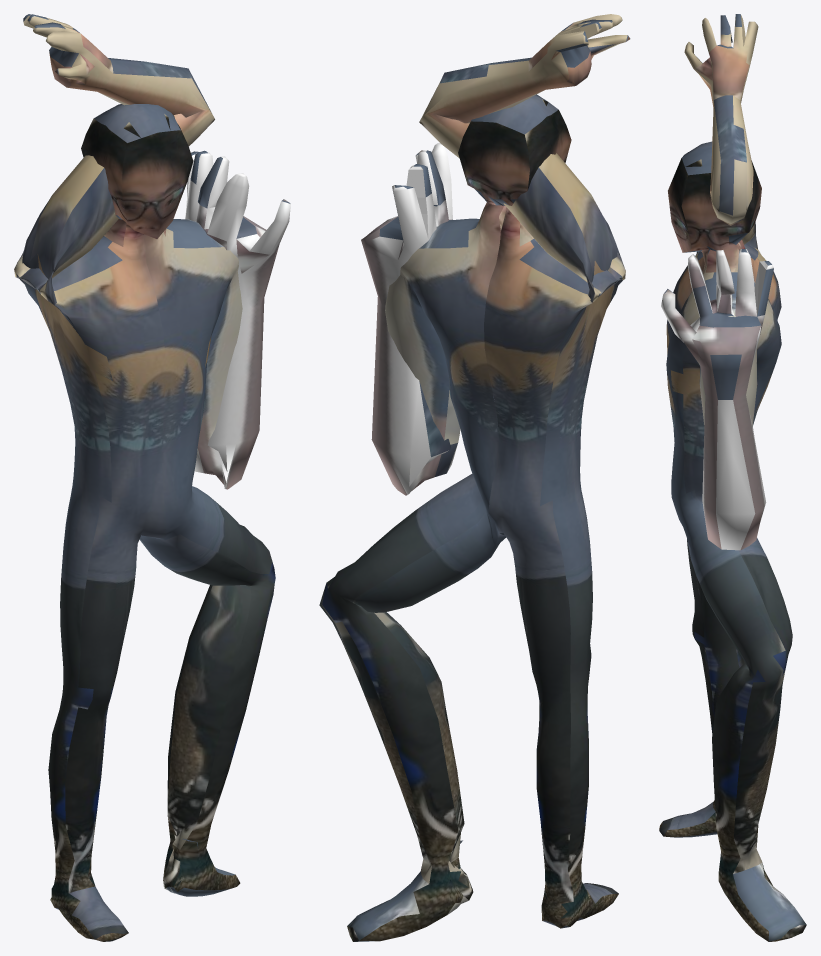
3 views of the same model, side by side, from view 1: azimuth 30°, elevation 25°; view 2: azimuth 150°, elevation 25°; view 3: azimuth 270°, elevation 25° (orthographic). The views are drawn at different scales.
Visible parts, largest first — view 1: Cube_Cube.001; view 2: Cube_Cube.001; view 3: Cube_Cube.001.
Boxes of the visible parts, x1=… form: Cube_Cube.001: x1=14, y1=14, x2=290, y2=941; Cube_Cube.001: x1=319, y1=14, x2=630, y2=941; Cube_Cube.001: x1=659, y1=14, x2=806, y2=941.
Size of the model in its own units: 1.72 by 5.78 by 0.9281.
